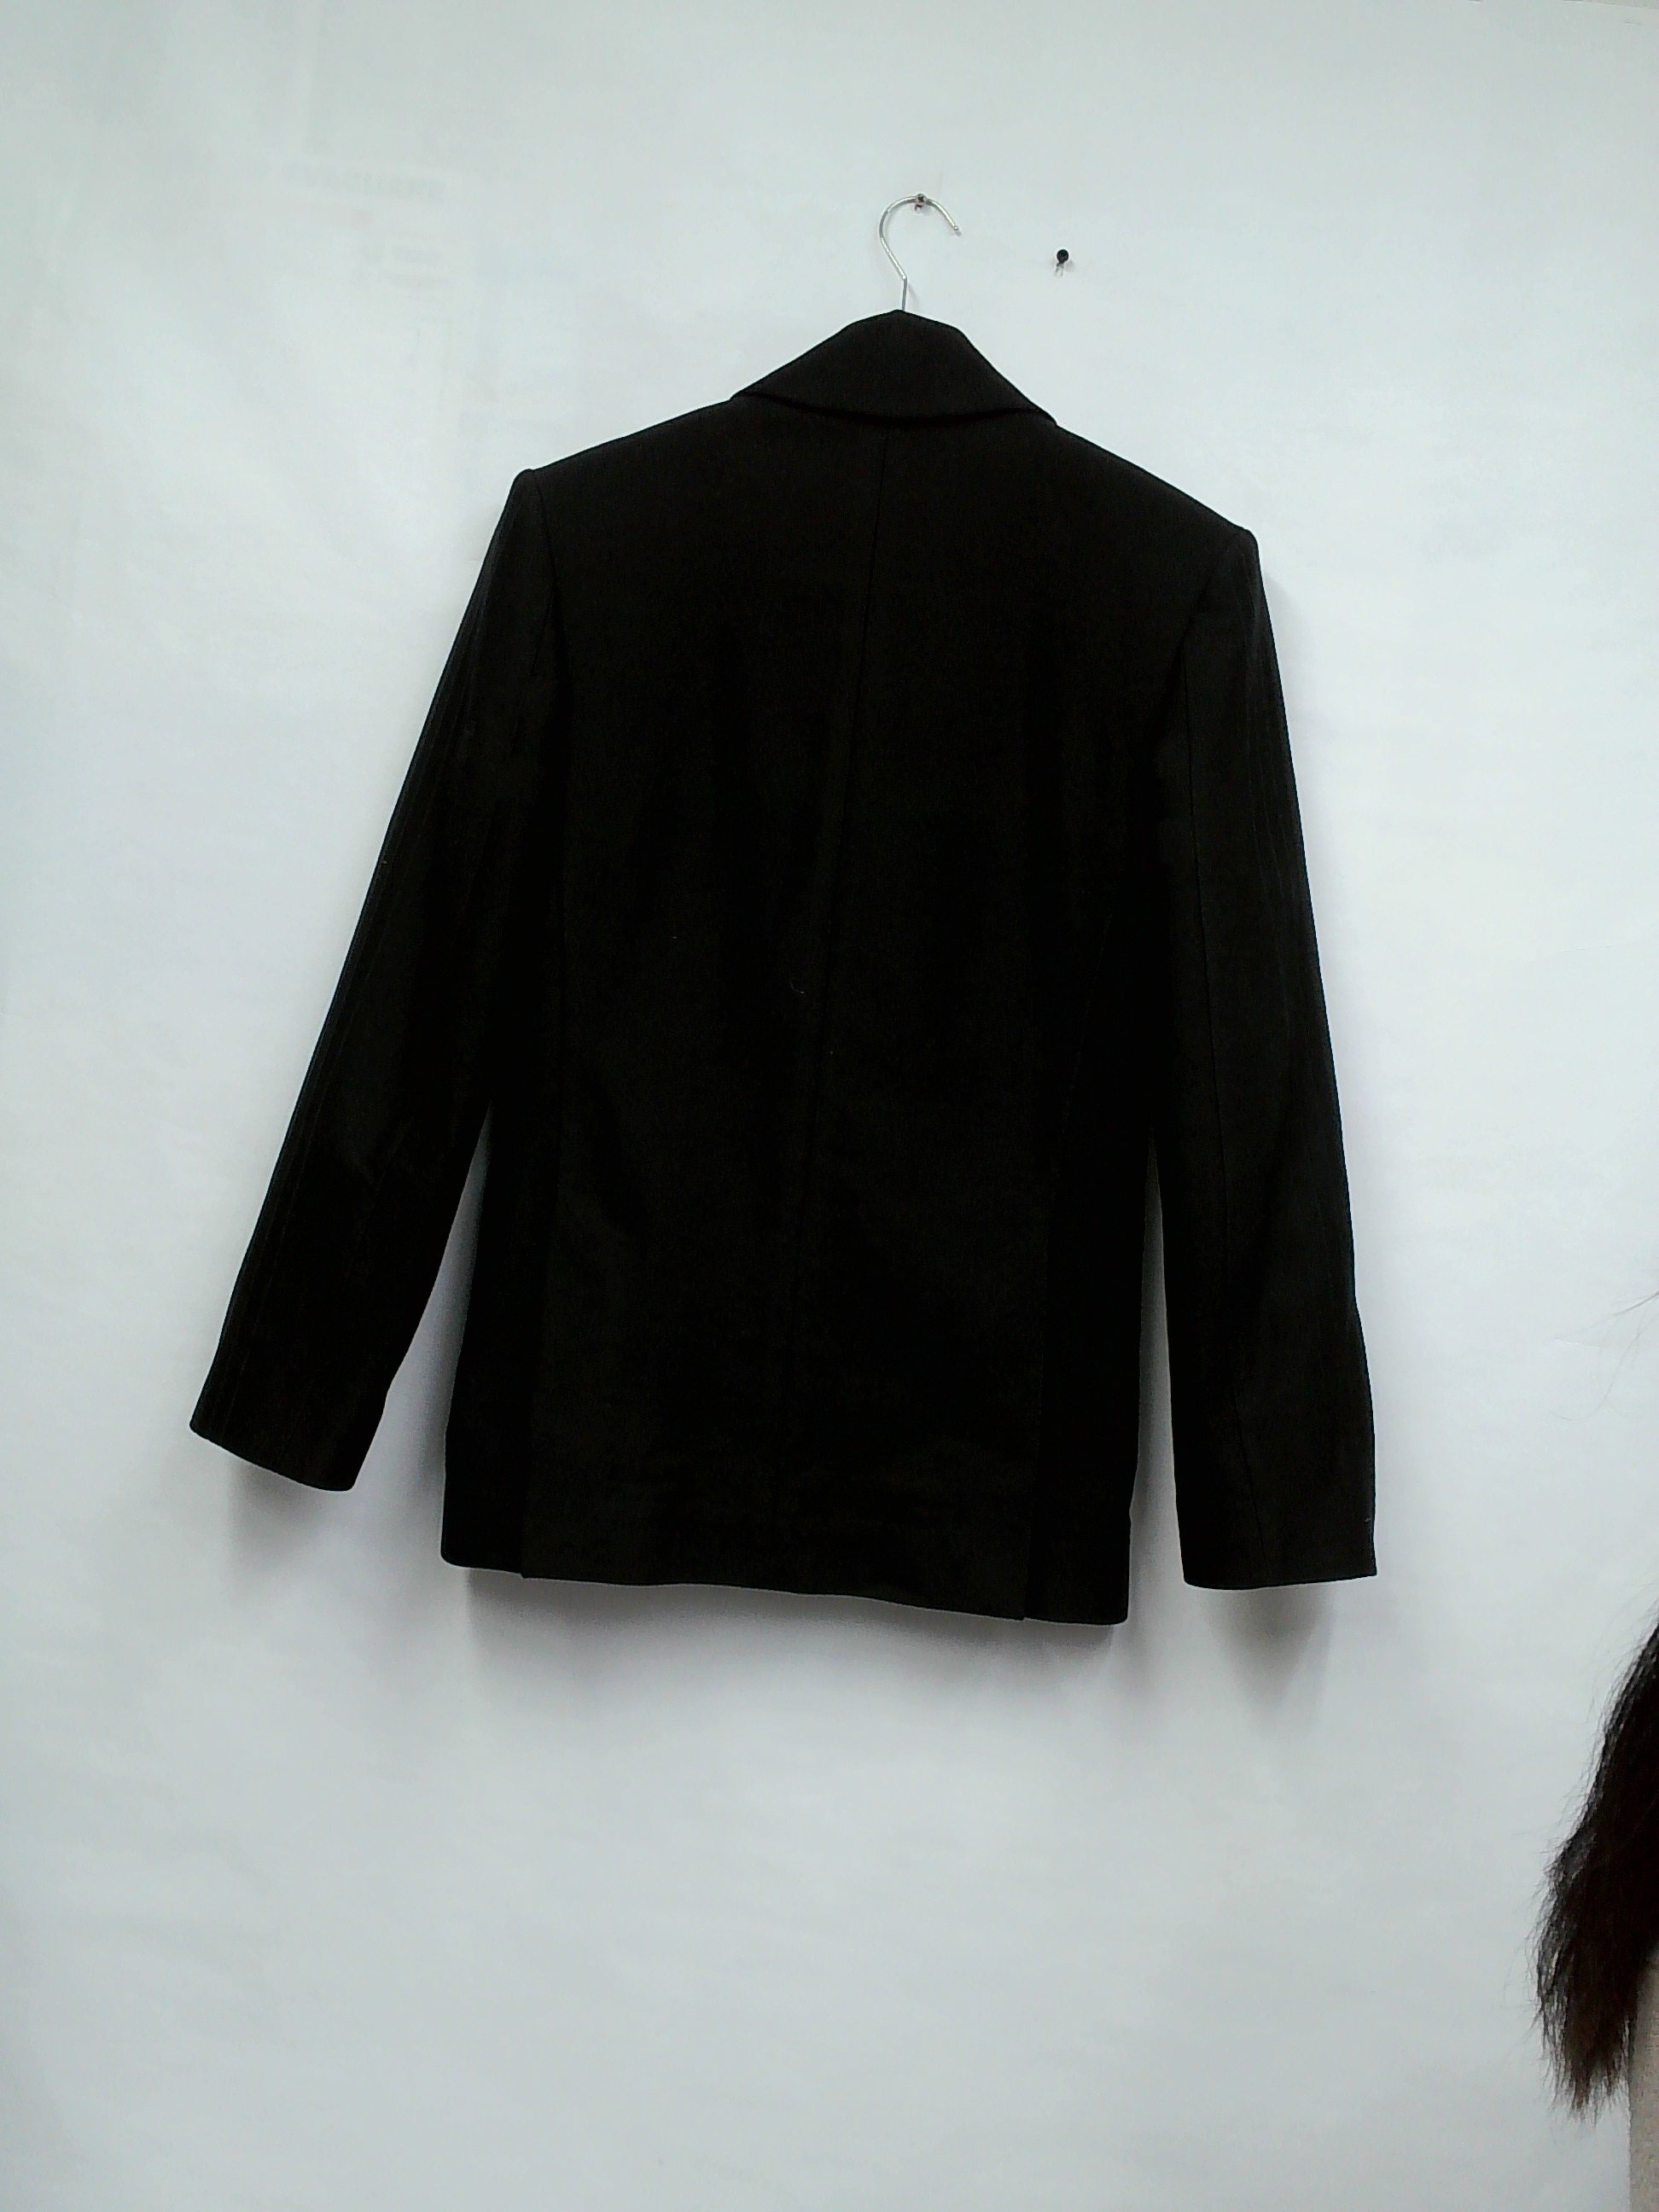seam: (504, 1127, 666, 1559)
